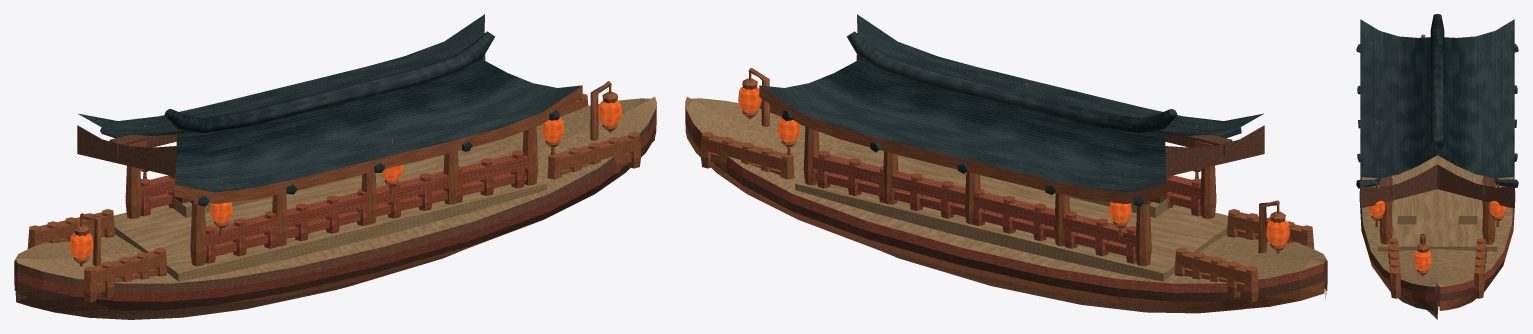
Rendered from zjj_canyon_canopy_boat_mid.glb.
The picture shows the model from 3 angles, left to right: view 1: azimuth 30°, elevation 25°; view 2: azimuth 150°, elevation 25°; view 3: azimuth 270°, elevation 25°; orthographic projection. The views are drawn at different scales.
Parts seen in each view (by area): view 1: zjj_canyon_canopy_boat_mid; view 2: zjj_canyon_canopy_boat_mid; view 3: zjj_canyon_canopy_boat_mid.
Part boxes in pixels (x1,y1,x2,y2): zjj_canyon_canopy_boat_mid: [14, 14, 656, 319]; zjj_canyon_canopy_boat_mid: [685, 14, 1327, 313]; zjj_canyon_canopy_boat_mid: [1356, 14, 1518, 319].
Bounding box in the file's own units: 11.5 × 3.8 × 3.2.
2 materials, 2 textured.
